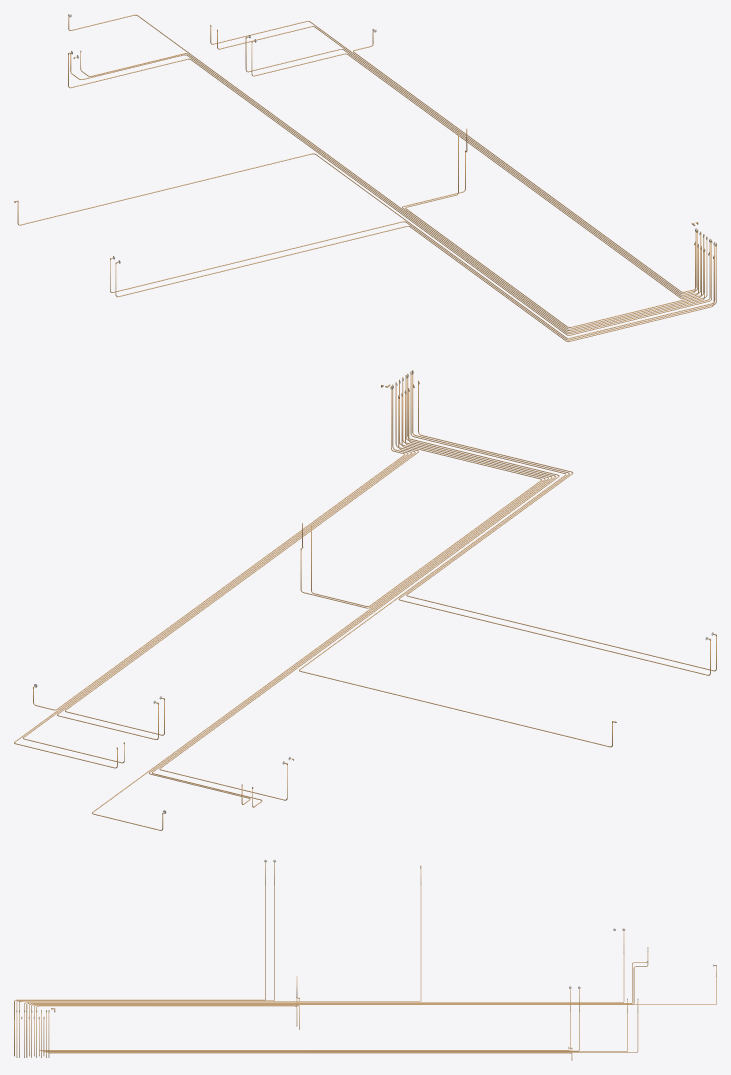
File: slab_pipes_supply__plumbing-copper.glb
The picture shows the model from 3 angles, top to bottom: view 1: azimuth 30°, elevation 25°; view 2: azimuth 150°, elevation 25°; view 3: azimuth 270°, elevation 25°; orthographic projection. The views are drawn at different scales.
Visible parts, largest first — view 1: pipe_supply_branch_hosebib_back__copper, pipe_supply_branch_hallbath_tub_cold__copper, pipe_supply_branch_hallbath_toilet__copper, pipe_supply_branch_hallbath_vanity_cold__copper, pipe_supply_branch_kitchen_hot__copper, pipe_supply_branch_hallbath_tub_hot__copper, pipe_supply_branch_kitchen_cold__copper, pipe_supply_branch_master_tub_cold__copper, pipe_supply_branch_master_vanity_cold__copper, pipe_supply_branch_master_tub_hot__copper, pipe_supply_branch_master_vanity_hot__copper, pipe_supply_branch_master_toilet__copper (+2 smaller); view 2: pipe_supply_branch_hosebib_back__copper, pipe_supply_branch_hallbath_vanity_cold__copper, pipe_supply_branch_hallbath_toilet__copper, pipe_supply_branch_hallbath_tub_hot__copper, pipe_supply_branch_hallbath_tub_cold__copper, pipe_supply_branch_kitchen_cold__copper, pipe_supply_branch_kitchen_hot__copper, pipe_supply_branch_master_tub_cold__copper, pipe_supply_branch_master_tub_hot__copper, pipe_supply_branch_master_vanity_cold__copper, pipe_supply_branch_master_vanity_hot__copper, pipe_supply_branch_laundry_hot__copper (+2 smaller); view 3: pipe_supply_branch_hallbath_tub_hot__copper, pipe_supply_branch_master_vanity_cold__copper, pipe_supply_branch_master_toilet__copper, pipe_supply_branch_hallbath_vanity_cold__copper, pipe_supply_branch_hallbath_toilet__copper, pipe_supply_branch_hallbath_tub_cold__copper, pipe_supply_branch_master_tub_cold__copper, pipe_supply_branch_hosebib_back__copper, pipe_supply_branch_master_tub_hot__copper, pipe_supply_branch_kitchen_hot__copper, pipe_supply_branch_master_vanity_hot__copper, pipe_supply_branch_laundry_cold__copper (+2 smaller).
Boxes of the visible parts, x1,y1,x2,y2 form: pipe_supply_branch_hosebib_back__copper: (16,153,715,338); pipe_supply_branch_hallbath_tub_cold__copper: (70,54,710,333); pipe_supply_branch_hallbath_toilet__copper: (68,14,707,330); pipe_supply_branch_hallbath_vanity_cold__copper: (68,52,711,335); pipe_supply_branch_kitchen_hot__copper: (115,226,714,341); pipe_supply_branch_hallbath_tub_hot__copper: (80,52,704,332); pipe_supply_branch_kitchen_cold__copper: (110,221,716,340); pipe_supply_branch_master_tub_cold__copper: (210,21,697,294); pipe_supply_branch_master_vanity_cold__copper: (245,36,701,297); pipe_supply_branch_master_tub_hot__copper: (217,26,695,295); pipe_supply_branch_master_vanity_hot__copper: (251,41,698,298); pipe_supply_branch_master_toilet__copper: (353,29,696,292); pipe_supply_branch_hosebib_back__copper: (299,375,614,747); pipe_supply_branch_hallbath_vanity_cold__copper: (159,377,559,800); pipe_supply_branch_hallbath_toilet__copper: (92,381,548,830); pipe_supply_branch_hallbath_tub_hot__copper: (149,391,552,804); pipe_supply_branch_hallbath_tub_cold__copper: (152,378,555,807); pipe_supply_branch_kitchen_cold__copper: (398,373,710,675); pipe_supply_branch_kitchen_hot__copper: (406,384,716,671); pipe_supply_branch_master_tub_cold__copper: (14,388,408,768); pipe_supply_branch_master_tub_hot__copper: (23,399,411,763); pipe_supply_branch_master_vanity_cold__copper: (57,385,415,739); pipe_supply_branch_master_vanity_hot__copper: (65,396,418,735); pipe_supply_branch_laundry_hot__copper: (300,394,545,608); pipe_supply_branch_hallbath_tub_hot__copper: (29,952,648,1056); pipe_supply_branch_master_vanity_cold__copper: (41,987,579,1057); pipe_supply_branch_master_toilet__copper: (48,1013,572,1060); pipe_supply_branch_hallbath_vanity_cold__copper: (24,931,624,1057); pipe_supply_branch_hallbath_toilet__copper: (31,965,716,1057); pipe_supply_branch_hallbath_tub_cold__copper: (26,948,648,1057); pipe_supply_branch_master_tub_cold__copper: (46,1000,638,1057); pipe_supply_branch_hosebib_back__copper: (19,866,421,1057); pipe_supply_branch_master_tub_hot__copper: (43,1000,627,1055); pipe_supply_branch_kitchen_hot__copper: (14,862,265,1056); pipe_supply_branch_master_vanity_hot__copper: (39,987,570,1056); pipe_supply_branch_laundry_cold__copper: (36,976,297,1057).
Bounding box in the file's own units: 9.29 × 1.25 × 15.66.
